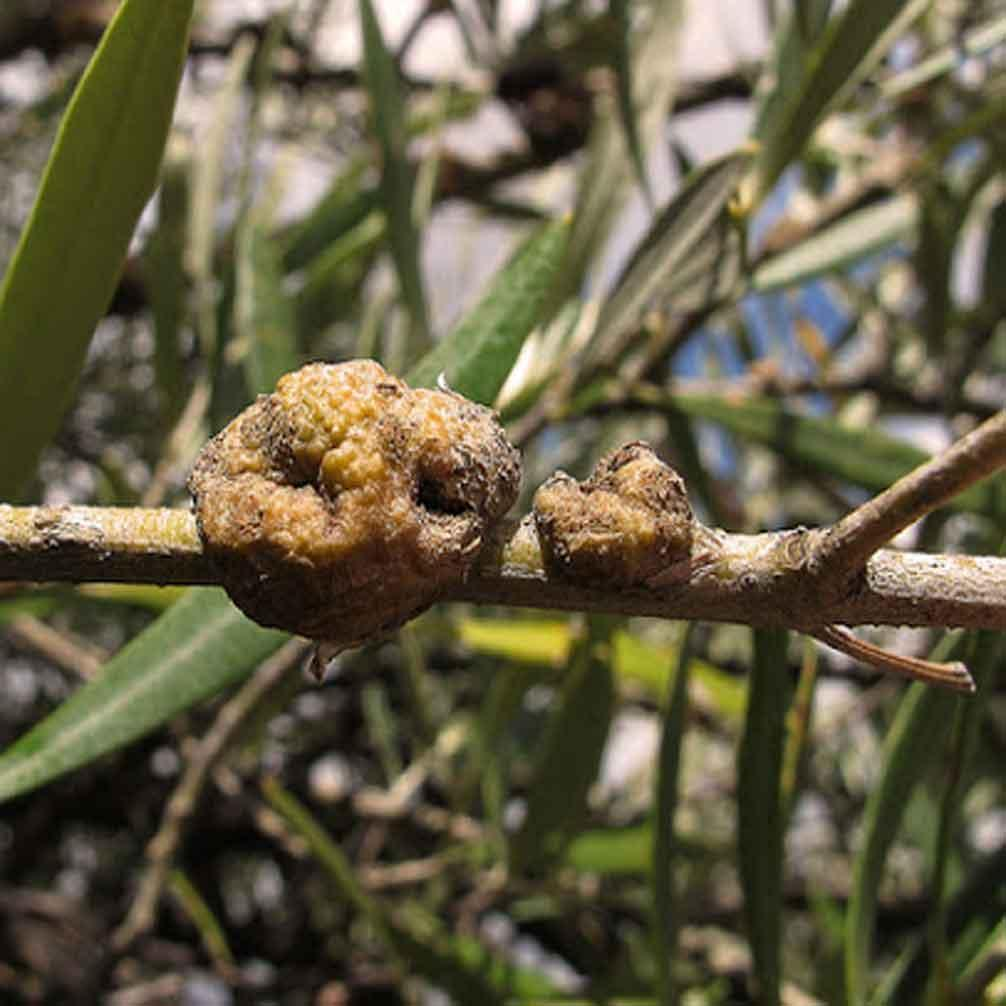Tuberculosis: (186, 347, 528, 687), (529, 435, 703, 595)
